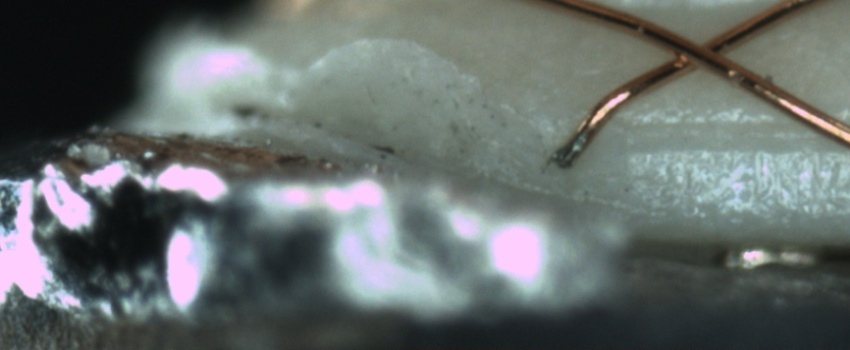CL: (653, 20, 743, 80)
DL: (616, 109, 849, 173)
